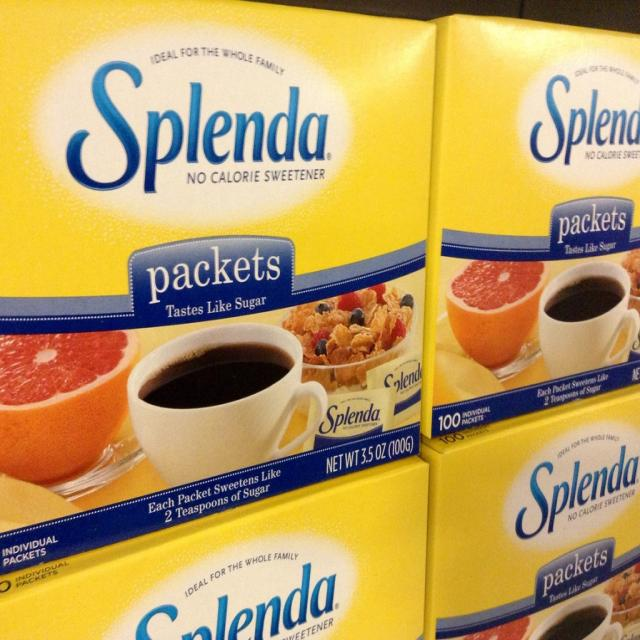Coffee: (114, 323, 310, 470), (542, 272, 626, 327), (540, 602, 606, 640)
Tea: (134, 342, 292, 408), (546, 278, 626, 318), (534, 607, 605, 640)
